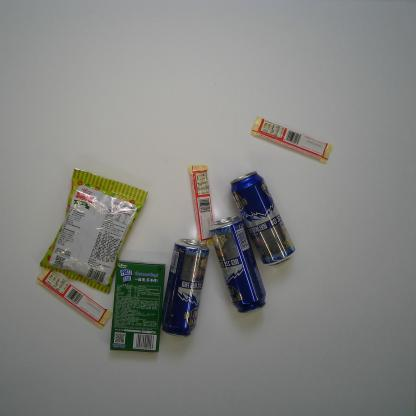Alcohol: (229, 170, 296, 267), (208, 215, 267, 314), (161, 237, 210, 338)
Chocolate: (36, 267, 112, 329), (250, 116, 334, 165), (188, 163, 216, 246)
Dessert: (109, 260, 166, 353)
Puffed Food: (38, 167, 149, 295)
